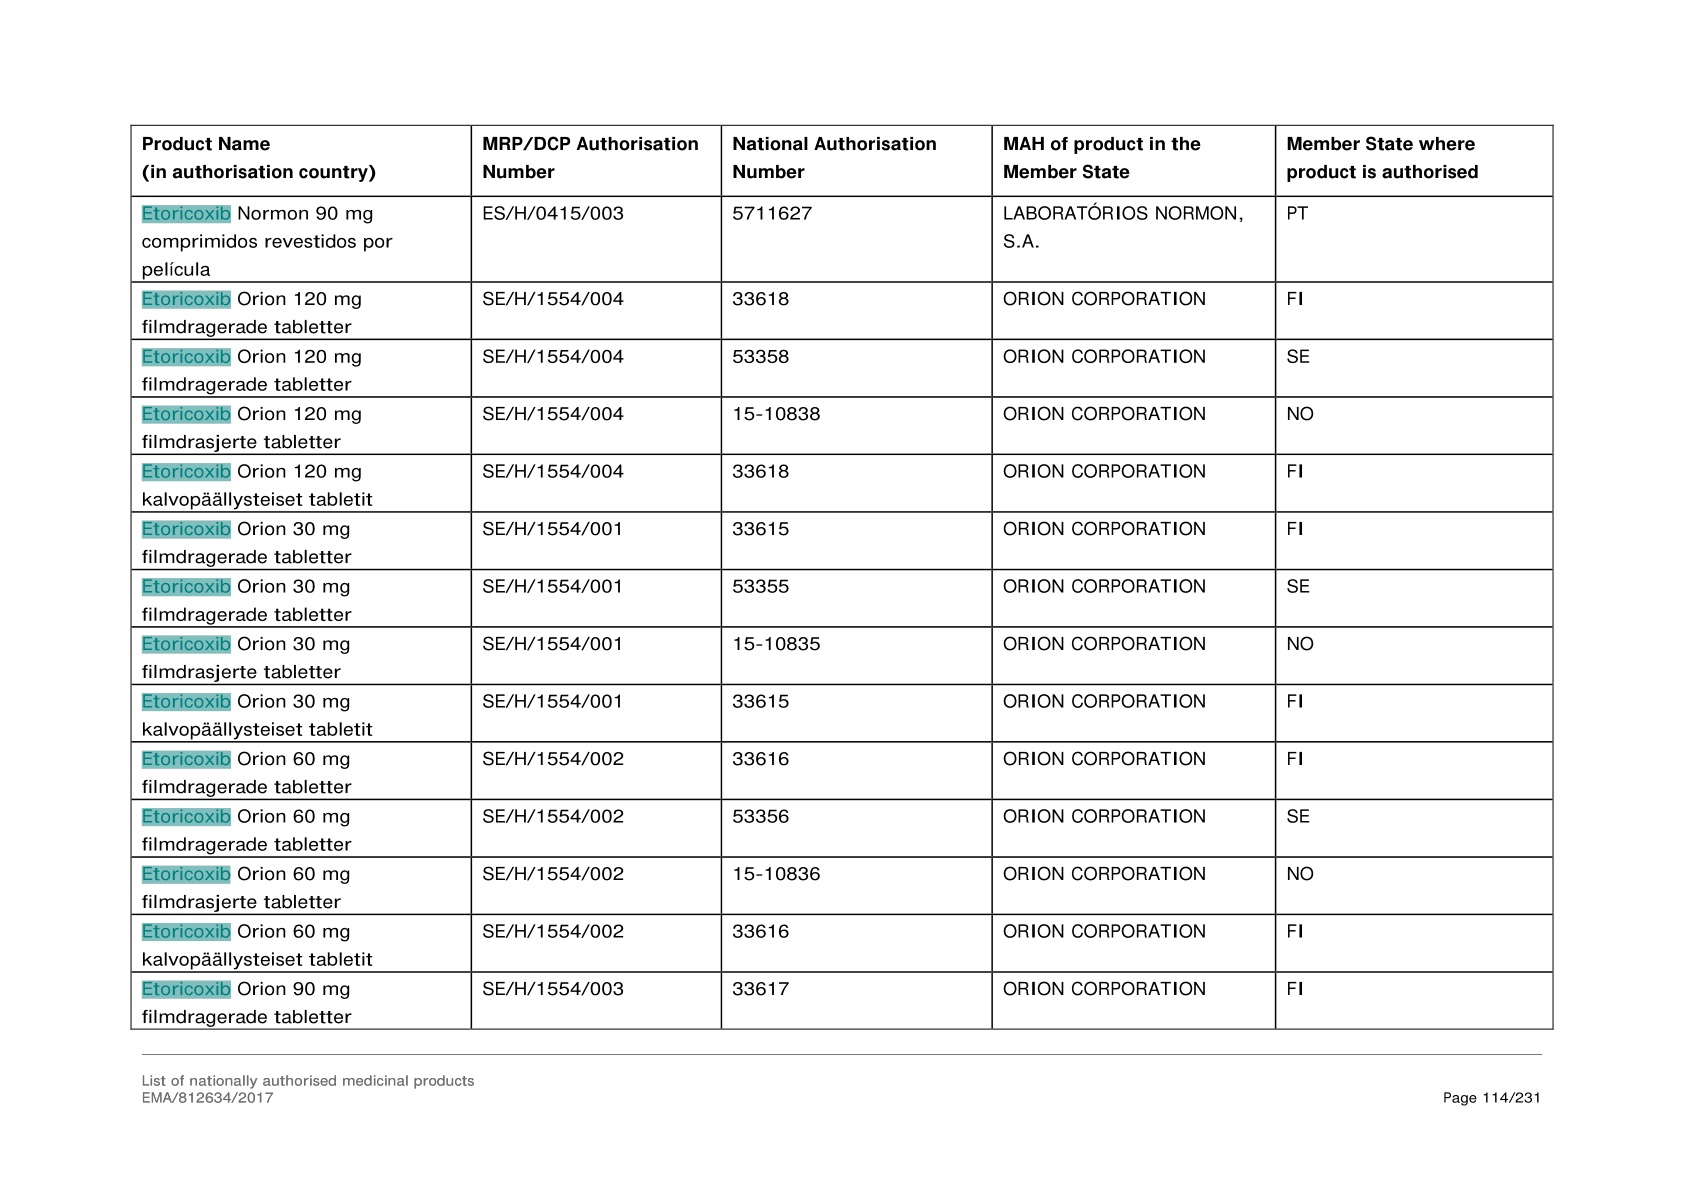full_lined: (130, 122, 1554, 1030)
